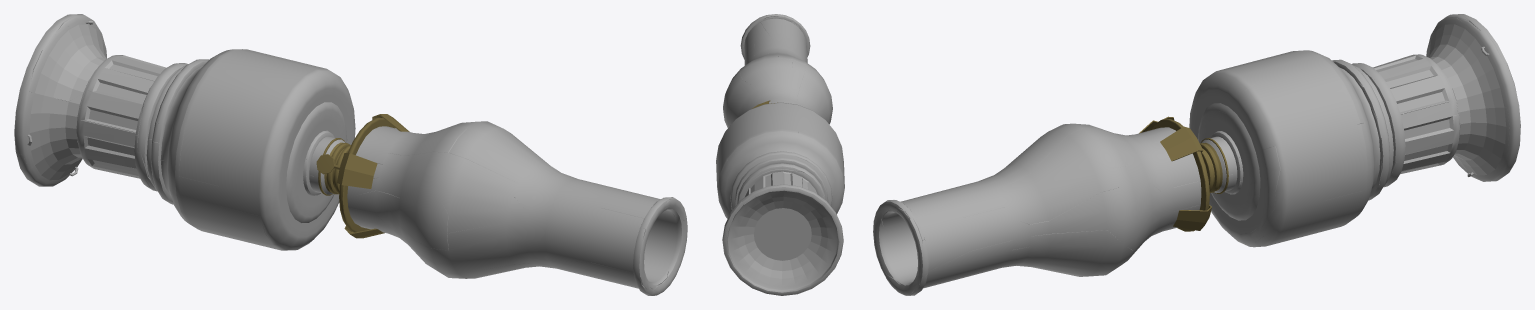
Rendered from PR_LanternBroken_02_SilriKimGraceHoang.fbx.
3 renders of one model, left to right at view 1: azimuth 30°, elevation 25°; view 2: azimuth 150°, elevation 25°; view 3: azimuth 270°, elevation 25°, orthographic. The views are drawn at different scales.
Visible parts, largest first — view 1: shard111, shard122, shard11, shard5, shard45, shard125, shard132, shard15, shard40, shard8, shard100, shard140 (+20 smaller); view 2: shard108, shard102, shard107, shard8, shard147, shard100, shard111, shard133, shard109, shard17, shard122, shard105 (+14 smaller); view 3: shard100, shard17, shard120, shard32, shard4, shard19, shard8, shard103, shard102, shard105, shard111, shard130 (+19 smaller).
Part boxes in pixels (bbox=[...]): shard111: bbox=[179, 66, 334, 249]; shard122: bbox=[164, 85, 339, 250]; shard11: bbox=[449, 127, 617, 229]; shard5: bbox=[447, 196, 643, 268]; shard45: bbox=[379, 152, 518, 233]; shard125: bbox=[15, 70, 139, 178]; shard132: bbox=[29, 27, 149, 135]; shard15: bbox=[350, 169, 448, 250]; shard40: bbox=[353, 215, 532, 273]; shard8: bbox=[383, 121, 555, 172]; shard100: bbox=[208, 49, 349, 195]; shard140: bbox=[137, 63, 187, 204]; shard108: bbox=[739, 190, 815, 269]; shard102: bbox=[716, 131, 833, 218]; shard107: bbox=[727, 191, 828, 295]; shard8: bbox=[740, 53, 805, 106]; shard147: bbox=[787, 184, 842, 273]; shard100: bbox=[716, 104, 798, 172]; shard111: bbox=[765, 102, 844, 186]; shard133: bbox=[723, 184, 825, 293]; shard109: bbox=[730, 151, 826, 209]; shard17: bbox=[729, 34, 776, 113]; shard122: bbox=[812, 141, 844, 214]; shard105: bbox=[749, 169, 802, 194]; shard100: bbox=[1225, 50, 1363, 246]; shard17: bbox=[953, 154, 1160, 224]; shard120: bbox=[1442, 25, 1509, 174]; shard32: bbox=[1049, 181, 1198, 250]; shard4: bbox=[903, 200, 1050, 271]; shard19: bbox=[1002, 230, 1132, 276]; shard8: bbox=[1013, 123, 1166, 183]; shard103: bbox=[1370, 75, 1455, 185]; shard102: bbox=[1309, 50, 1380, 217]; shard105: bbox=[1373, 54, 1458, 115]; shard111: bbox=[1189, 50, 1303, 212]; shard130: bbox=[1453, 17, 1520, 180].
Bounding box in the file's own units: 120 × 47.45 × 168.
